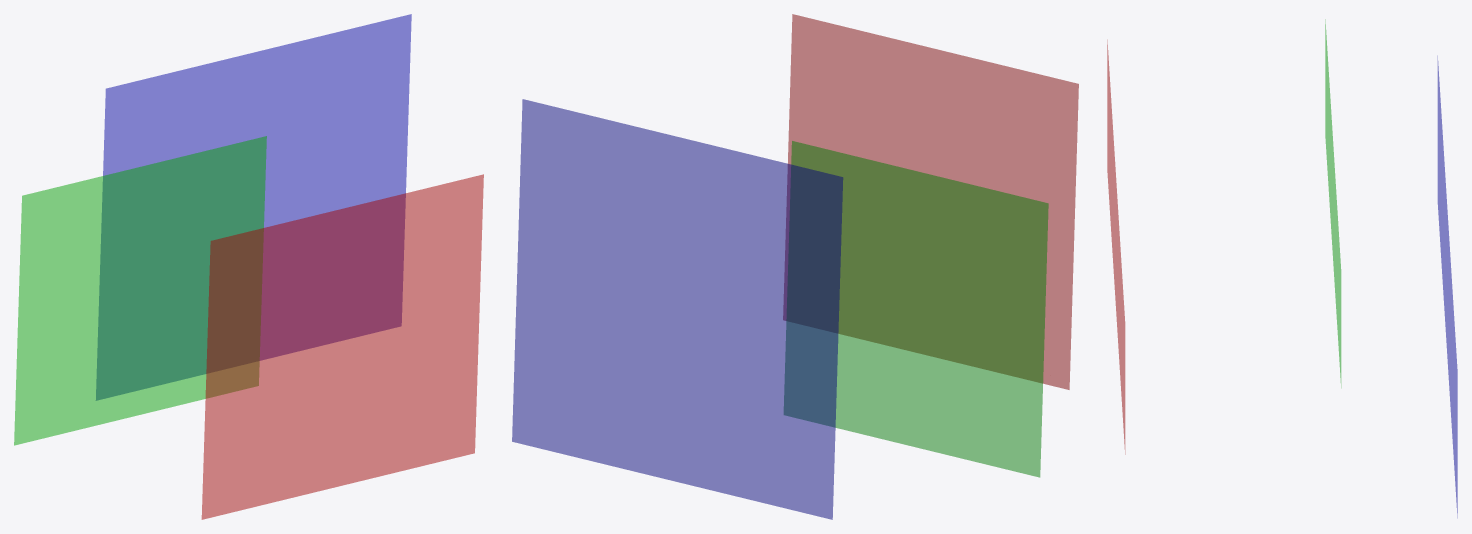
Rendered from transparent.fbx.
3 views of the same model, side by side, from view 1: azimuth 30°, elevation 25°; view 2: azimuth 150°, elevation 25°; view 3: azimuth 270°, elevation 25° (orthographic). The views are drawn at different scales.
Visible parts, largest first — view 1: pPlane1, pPlane3, pPlane2; view 2: pPlane1, pPlane3, pPlane2; view 3: pPlane1, pPlane3, pPlane2.
Boxes of the visible parts, x1,y1,x2,y2 form: pPlane1: (96,14,411,400); pPlane3: (201,174,483,519); pPlane2: (14,136,266,445); pPlane1: (512,99,843,519); pPlane3: (783,14,1078,389); pPlane2: (784,141,1048,477); pPlane1: (1437,56,1457,517); pPlane3: (1107,40,1125,454); pPlane2: (1325,19,1341,387).
Size of the model in its own units: 5.62 by 3.85 by 3.82.
